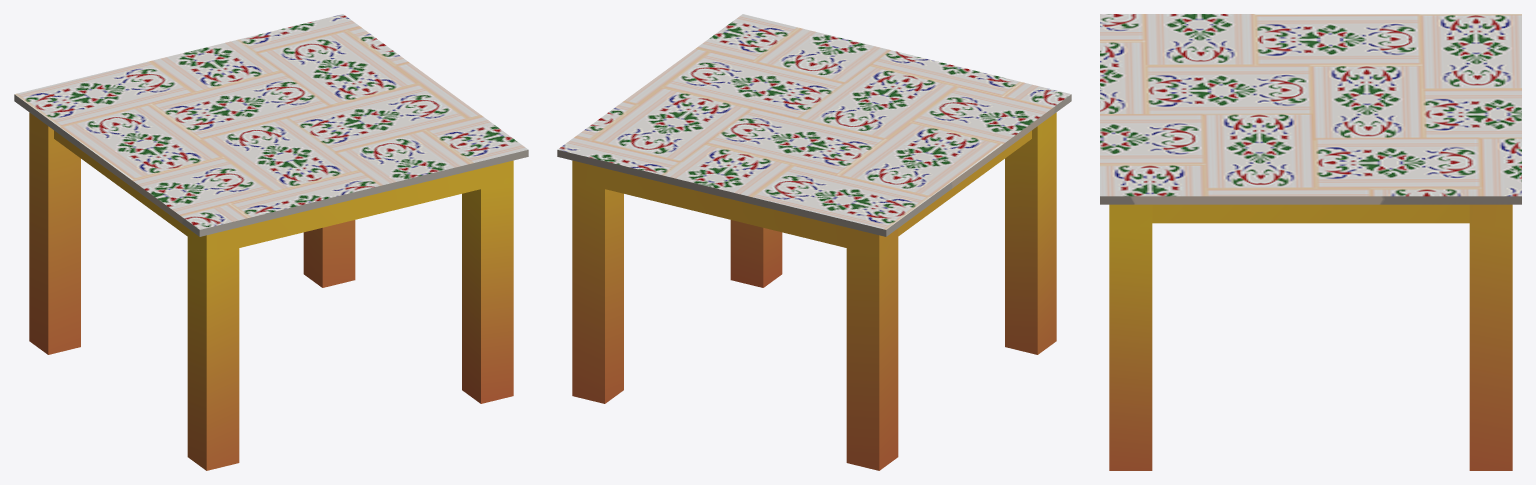
The model's file is Table 1.fbx.
3 views of the same model, side by side, from view 1: azimuth 30°, elevation 25°; view 2: azimuth 150°, elevation 25°; view 3: azimuth 270°, elevation 25° (orthographic). The views are drawn at different scales.
Visible parts, largest first — view 1: Box004; view 2: Box004; view 3: Box004.
Boxes of the visible parts, box(x1,y1,x2,y2) form: Box004: box(14, 14, 528, 470); Box004: box(557, 14, 1071, 470); Box004: box(1100, 14, 1521, 470).
Bounding box in the file's own units: 37.75 × 27.07 × 36.87.
